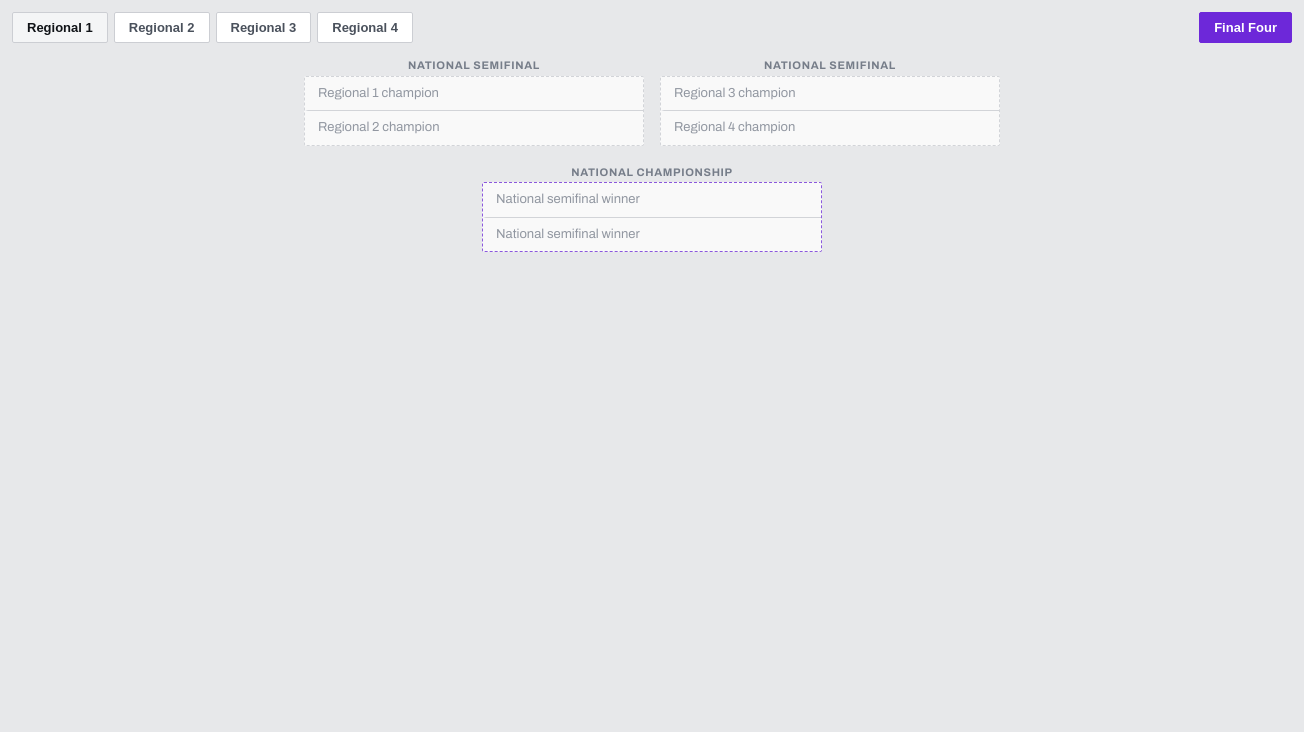
Scenario: Bracket component — partial field render › renders completed, live, and projected matches across region tabs
The width and height of the screenshot is (1304, 732).
Note: South: has both completed slots and live slots.
Click the tab "Regional 1" at (60, 28), box [12,12,108,43]
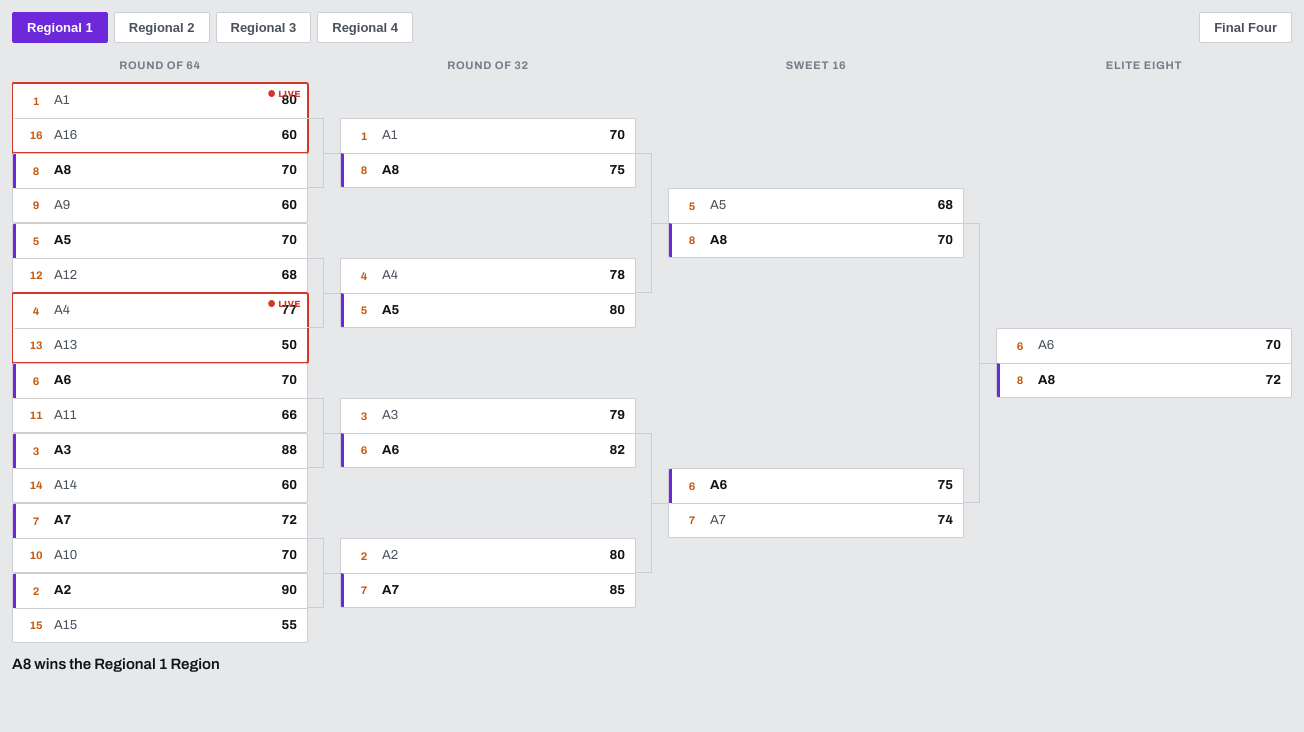
Check: the element with class "is-live" showing "1 A1 80 16 A16 60 ● Live" is shown, box [12,83,308,153]
Check: the element with class "mm-match" showing "8 A8 70 9 A9 60" is shown, box [12,153,308,223]
Note: East: all projected shells.
Click the tab "Regional 2" at (162, 28), box [114,12,210,43]
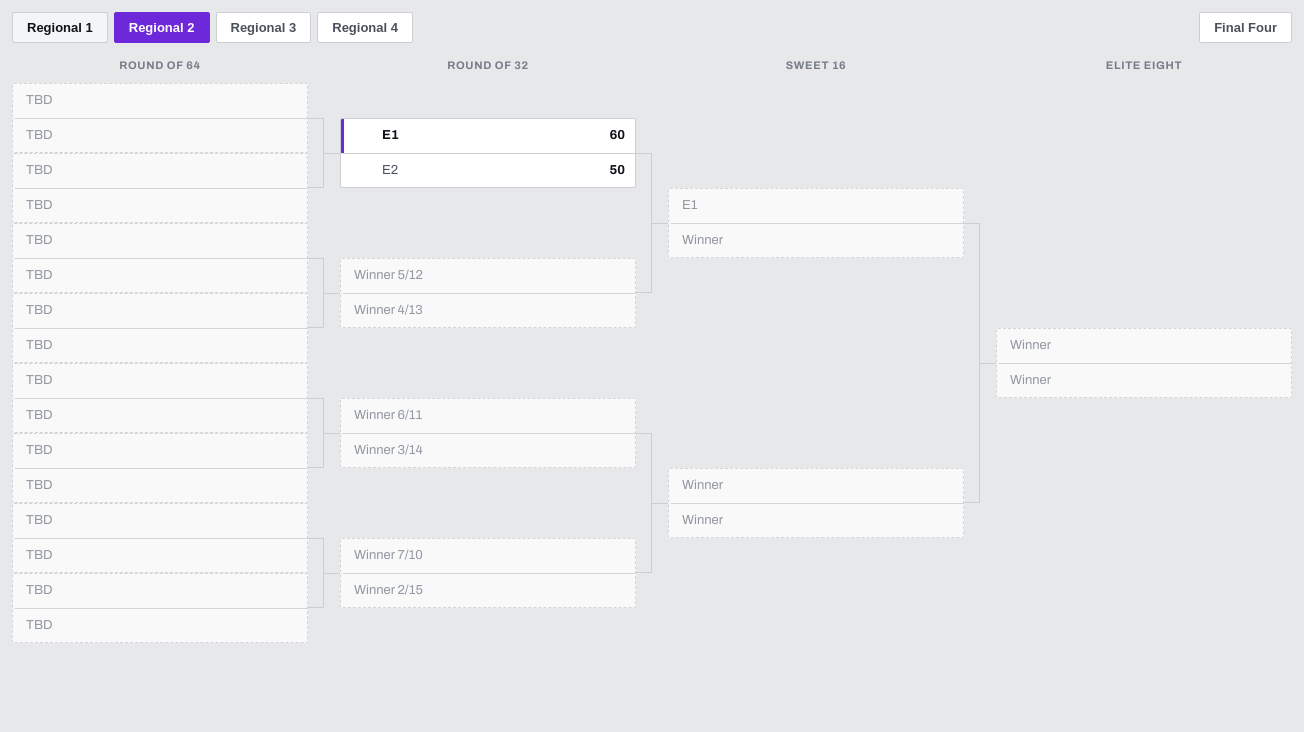
Check: the element with class "is-live" is shown, box [12,83,308,153]
Note: Back to the Final Four tab (its own onClick handler).
Click the tab "Final Four" at (1246, 28), box [1199,12,1292,43]
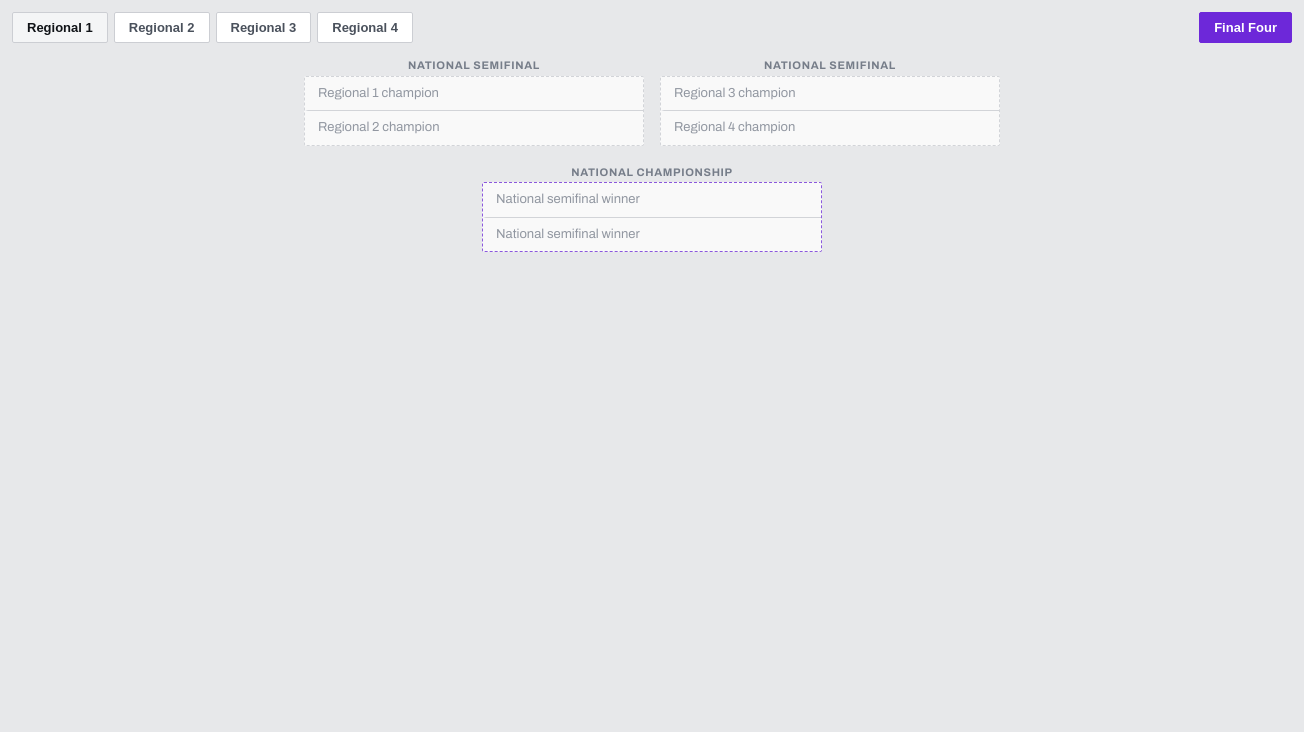
Check: the heading "National Championship" is shown, box [571,166,733,178]
